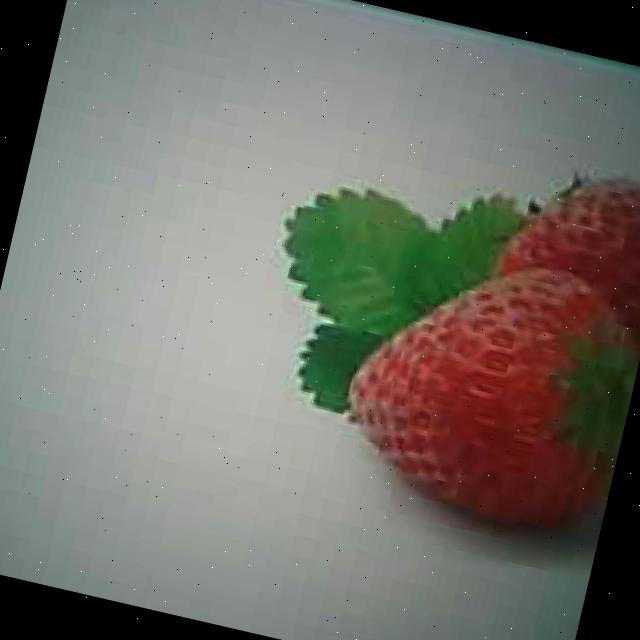strawberry: (321, 230, 640, 540)
